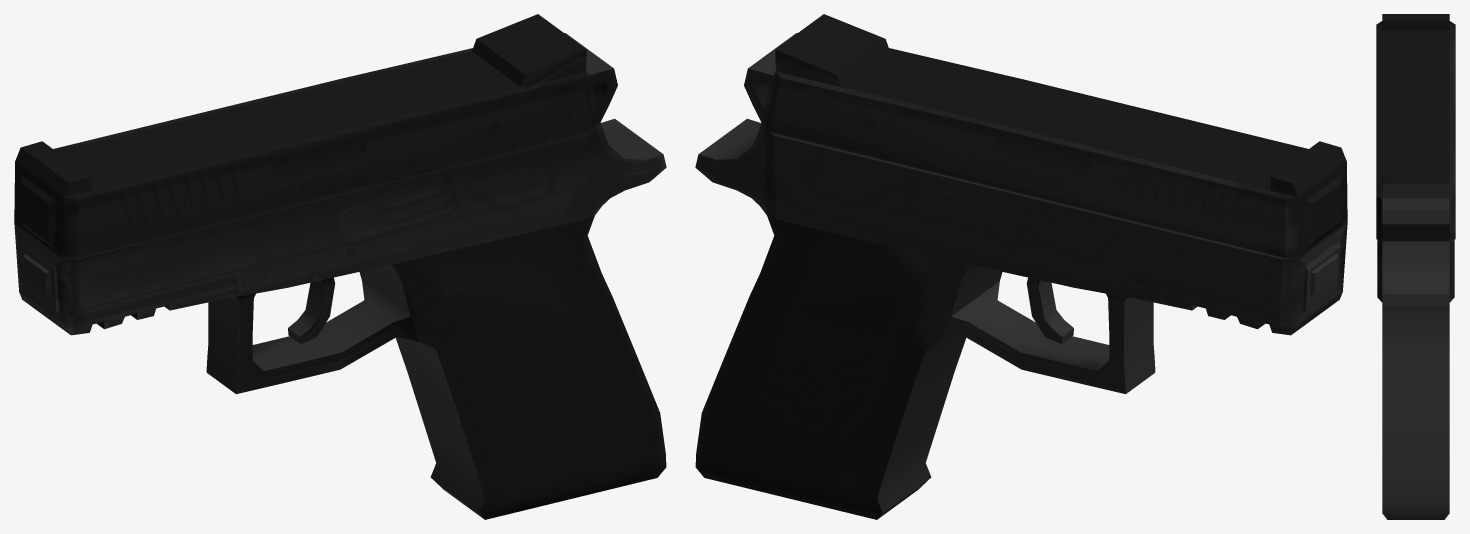
Rendered from glock.fbx.
The picture shows the model from 3 angles, left to right: view 1: azimuth 30°, elevation 25°; view 2: azimuth 150°, elevation 25°; view 3: azimuth 270°, elevation 25°; orthographic projection. The views are drawn at different scales.
Visible parts, largest first — view 1: gun; view 2: gun; view 3: gun.
Part boxes in pixels (x1=…): gun: x1=14, y1=14, x2=666, y2=519; gun: x1=695, y1=14, x2=1347, y2=519; gun: x1=1376, y1=14, x2=1455, y2=519.
Bounding box in the file's own units: 3.74 × 2.64 × 0.612.
1 material, 1 textured.
